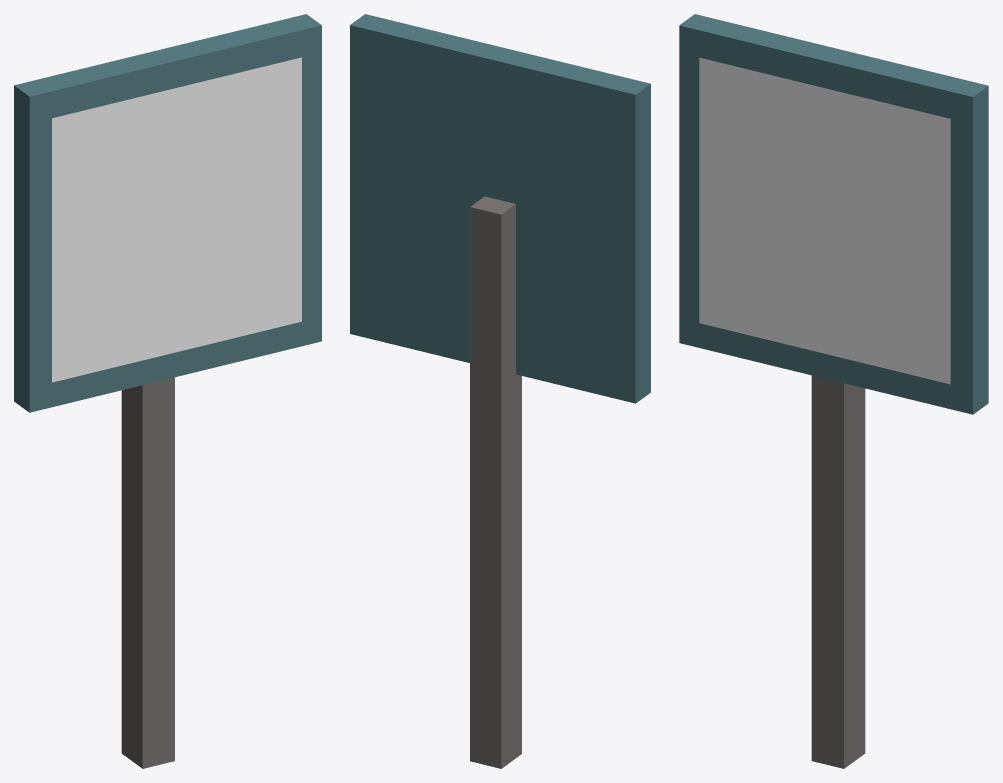
The model's file is SM_Stand_02.fbx.
The picture shows the model from 3 angles, left to right: view 1: azimuth 30°, elevation 25°; view 2: azimuth 150°, elevation 25°; view 3: azimuth 330°, elevation 25°; orthographic projection. The views are drawn at different scales.
Visible parts, largest first — view 1: SM_Stand_02; view 2: SM_Stand_02; view 3: SM_Stand_02.
Boxes of the visible parts, box(x1,y1,x2,y2) form: SM_Stand_02: box(14, 14, 321, 768); SM_Stand_02: box(350, 14, 650, 768); SM_Stand_02: box(679, 14, 988, 768).
Bounding box in the file's own units: 17.06 × 39.51 × 3.2.
